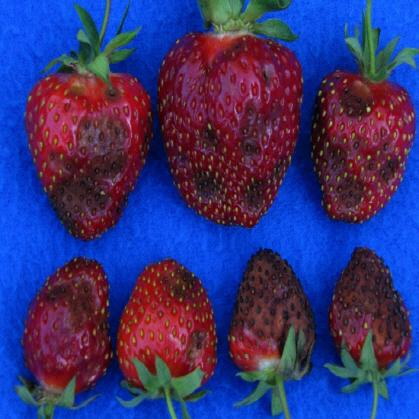Anthracnose Fruit Rot: (156, 33, 302, 228), (44, 78, 152, 242), (311, 74, 405, 223), (229, 245, 315, 357), (327, 244, 411, 357), (154, 258, 214, 368), (37, 271, 100, 337)
